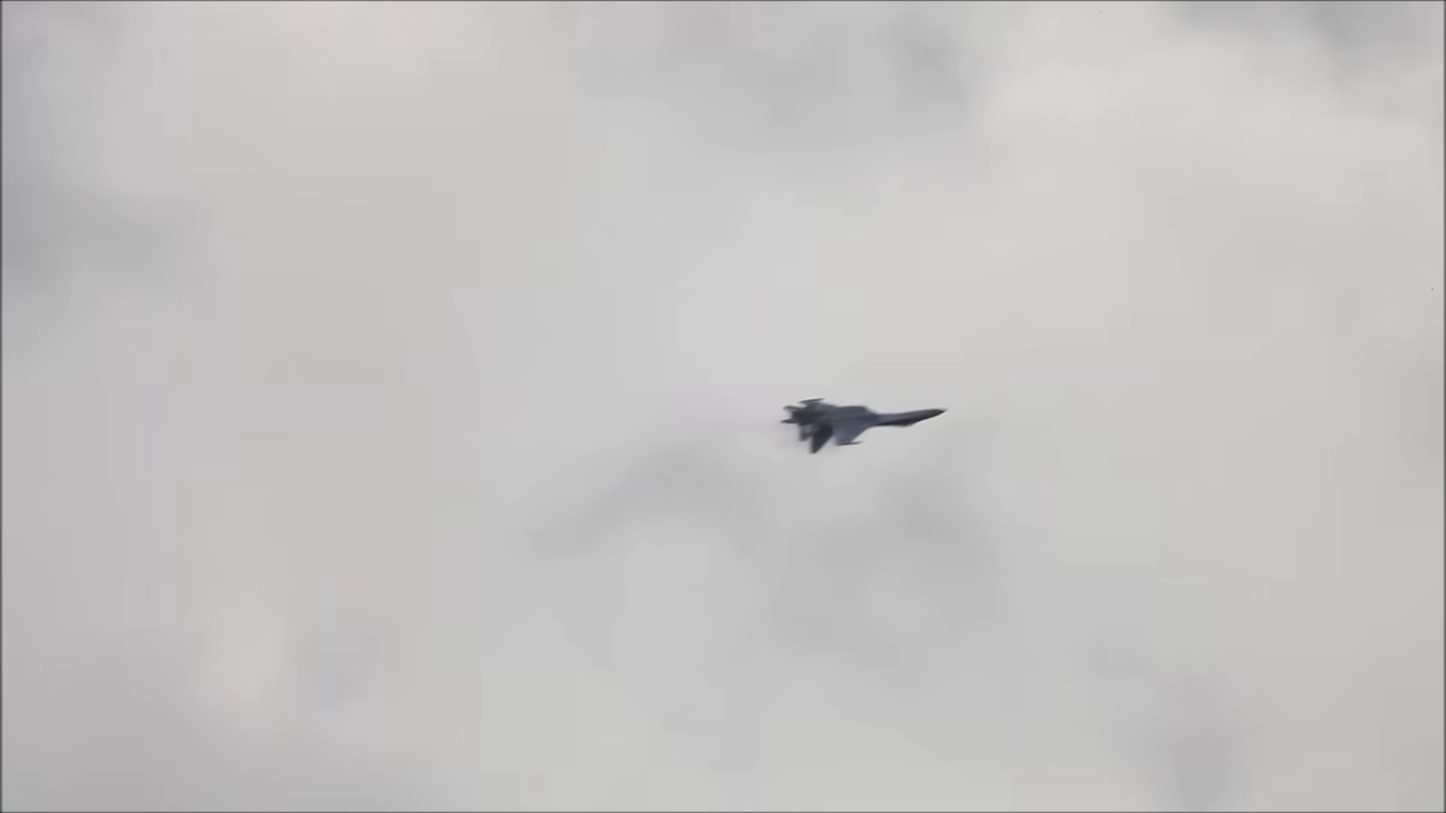Su35: (779, 398, 945, 456)
